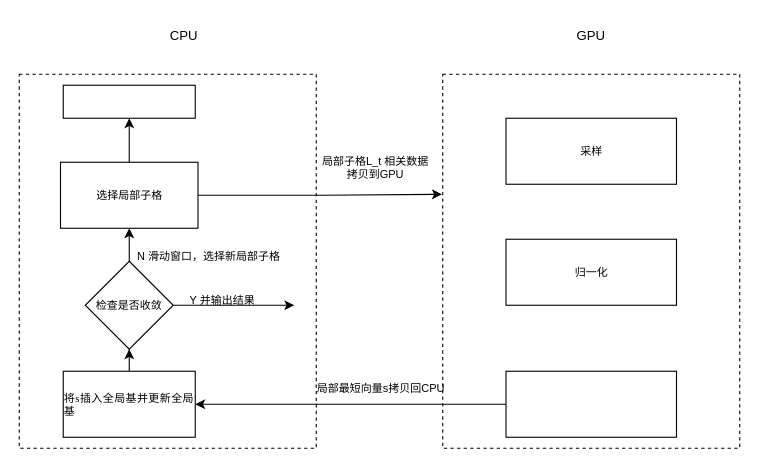
Image size: 759x468. Some labels were removed from this diagram. The centre of each missing label's shape, as x and y in pixels:
塞选算法: the point at 590,403
预处理 LLL(B) 生成B': the point at 128,101
